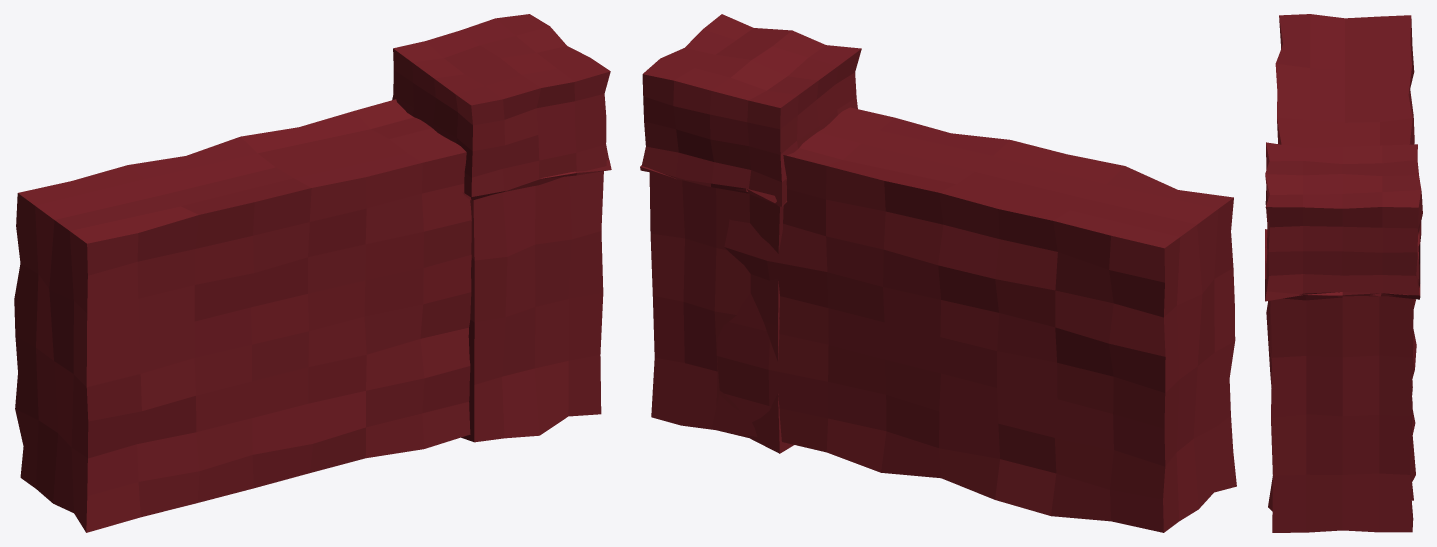
File: HalfBrickWall.fbx
The picture shows the model from 3 angles, left to right: view 1: azimuth 30°, elevation 25°; view 2: azimuth 150°, elevation 25°; view 3: azimuth 270°, elevation 25°; orthographic projection. The views are drawn at different scales.
Visible parts, largest first — view 1: Plane.003; view 2: Plane.003; view 3: Plane.003.
Boxes of the visible parts, left/top/right/bottom form: Plane.003: left=14, top=14, right=611, bottom=532; Plane.003: left=640, top=14, right=1236, bottom=532; Plane.003: left=1265, top=14, right=1422, bottom=532.
Bounding box in the file's own units: 1707 × 1096 × 470.
